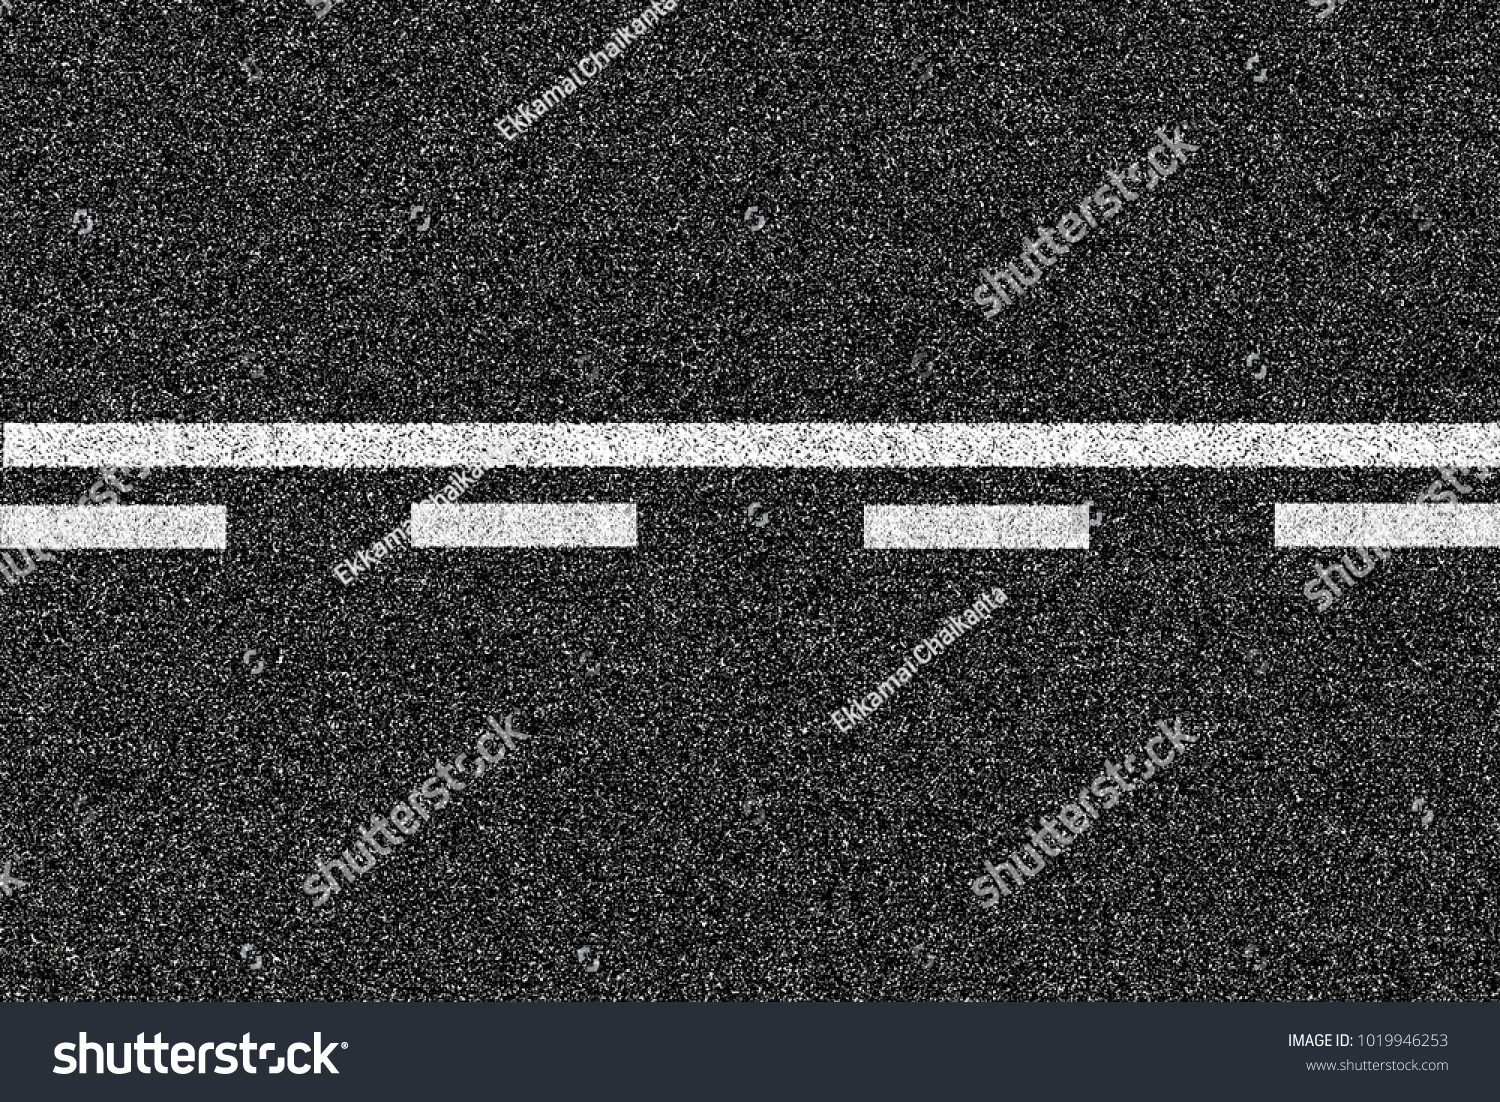LaneMark: (5, 422, 1500, 468), (1272, 499, 1500, 550), (861, 501, 1092, 551), (406, 501, 642, 550), (1, 502, 231, 548)
